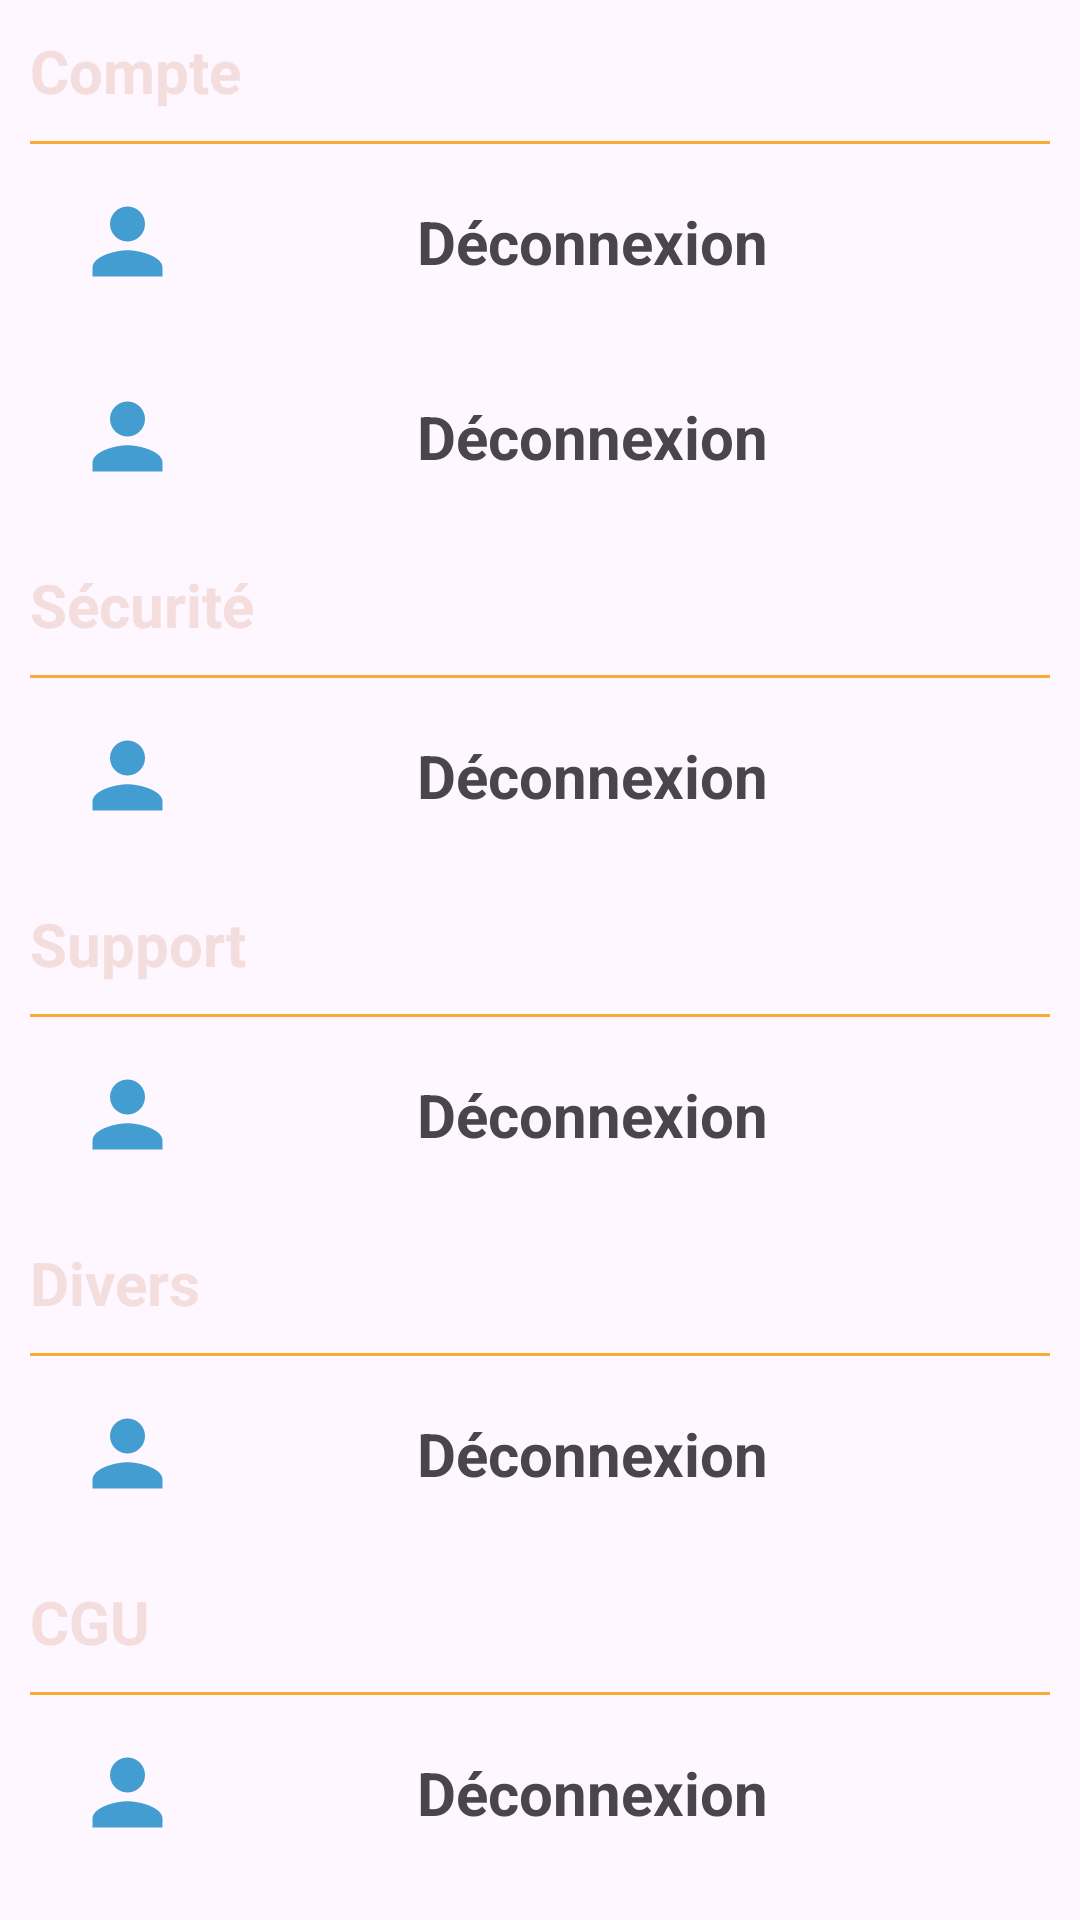

Locate icon controls on the screen. Image size 1080px×1920px, boxes as Rect(x1, y1, x2, y2).
person: Rect(92, 206, 163, 277), Rect(92, 401, 163, 472), Rect(92, 740, 163, 811), Rect(92, 1079, 163, 1150), Rect(92, 1418, 163, 1489), Rect(92, 1757, 163, 1828)
